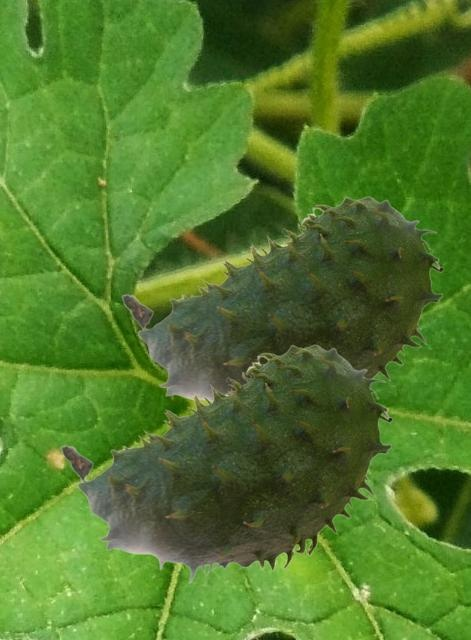guyabano: (60, 344, 392, 583), (121, 196, 443, 401)
